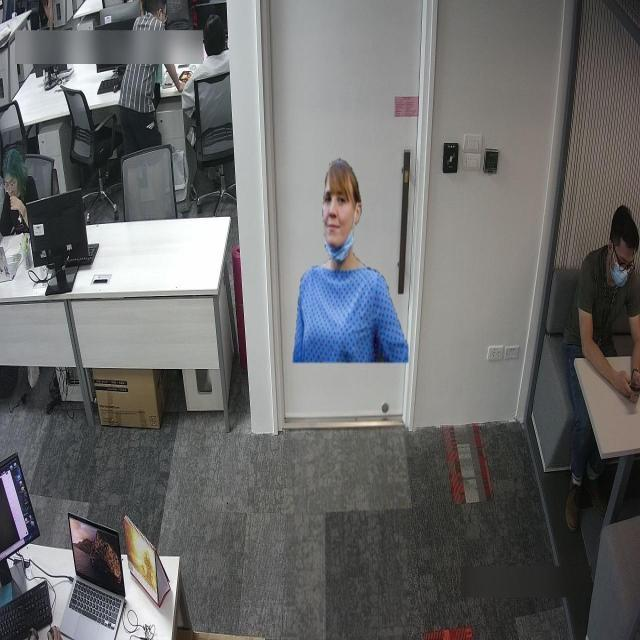hairnet: (322, 186, 355, 264)
